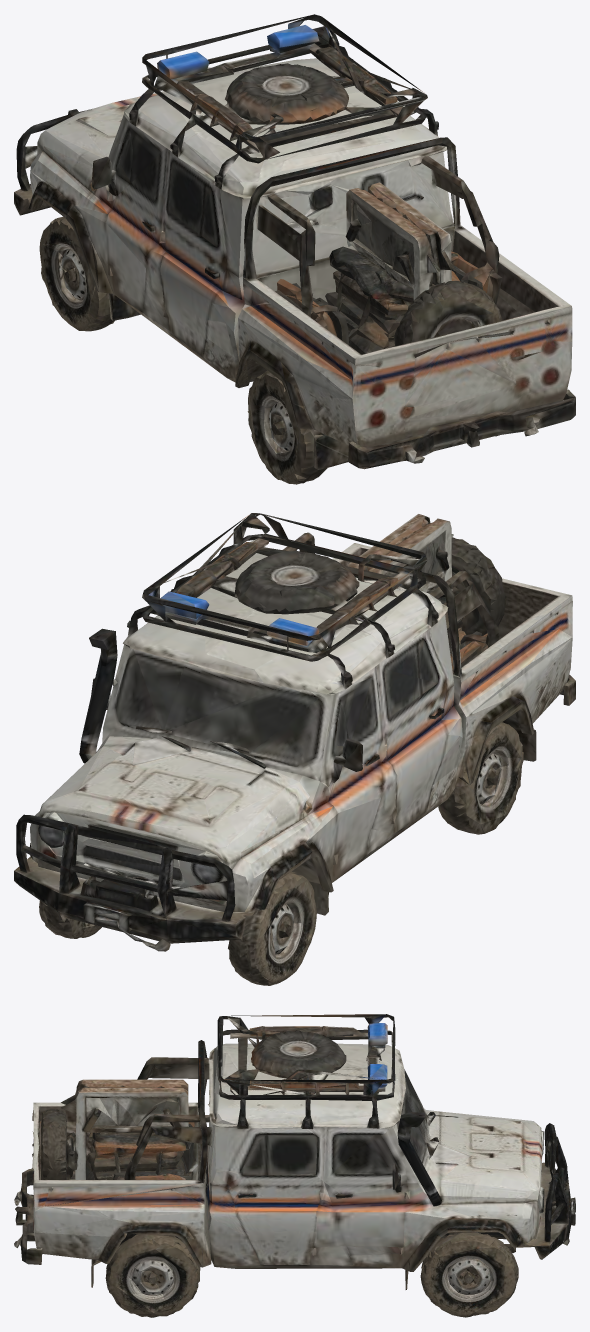
File: emercom_pickup_17k.glb
3 views of the same model, one above another, from view 1: azimuth 30°, elevation 25°; view 2: azimuth 150°, elevation 25°; view 3: azimuth 270°, elevation 25° (orthographic). The views are drawn at different scales.
Visible parts, largest first — view 1: output_unwrapped; view 2: output_unwrapped; view 3: output_unwrapped.
Part boxes in pixels (x1,y1,x2,y2): output_unwrapped: (14, 14, 575, 484); output_unwrapped: (14, 513, 575, 985); output_unwrapped: (14, 1014, 575, 1317).
Size of the model in its own units: 2.26 by 2.41 by 5.3.
1 material, 1 textured.
